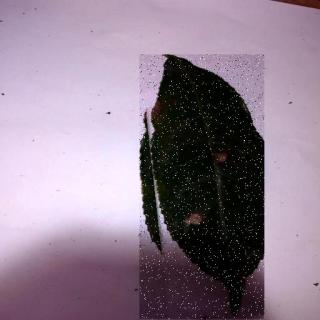Anthracnose: (141, 56, 266, 320)
